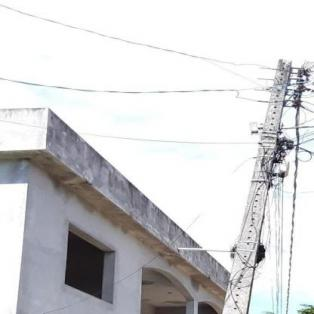Poste: (140, 43, 314, 314)
